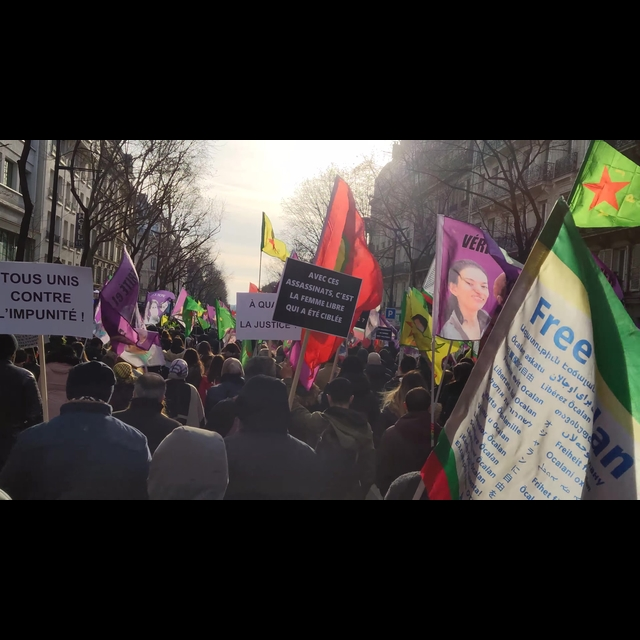YPJ: (572, 148, 640, 223)
